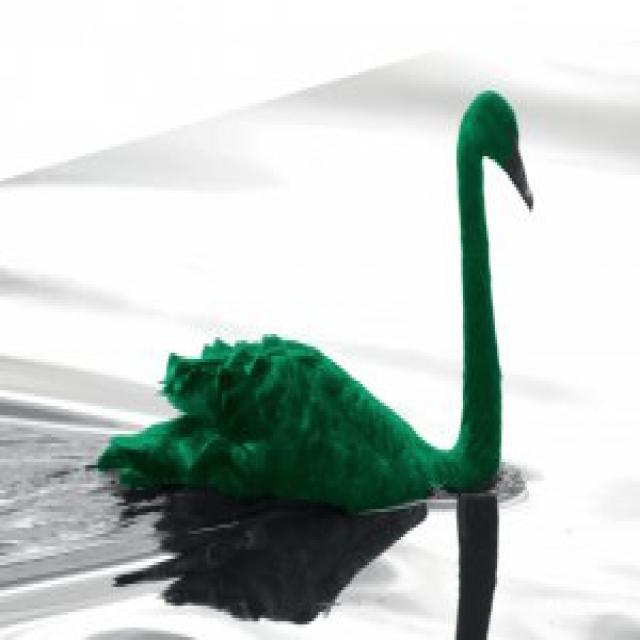swan: (96, 91, 535, 509)
